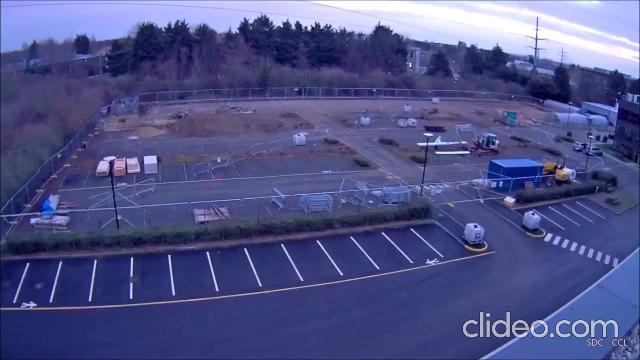empty: (281, 235, 349, 285), (315, 233, 383, 280), (350, 231, 417, 274), (245, 243, 304, 291), (383, 227, 448, 270), (207, 247, 263, 296), (167, 251, 220, 300), (413, 223, 475, 262), (48, 259, 96, 309), (12, 260, 61, 307), (129, 254, 175, 303), (88, 256, 132, 307), (513, 208, 564, 233), (534, 204, 581, 230), (549, 203, 593, 225), (575, 197, 615, 220), (564, 201, 602, 221)
